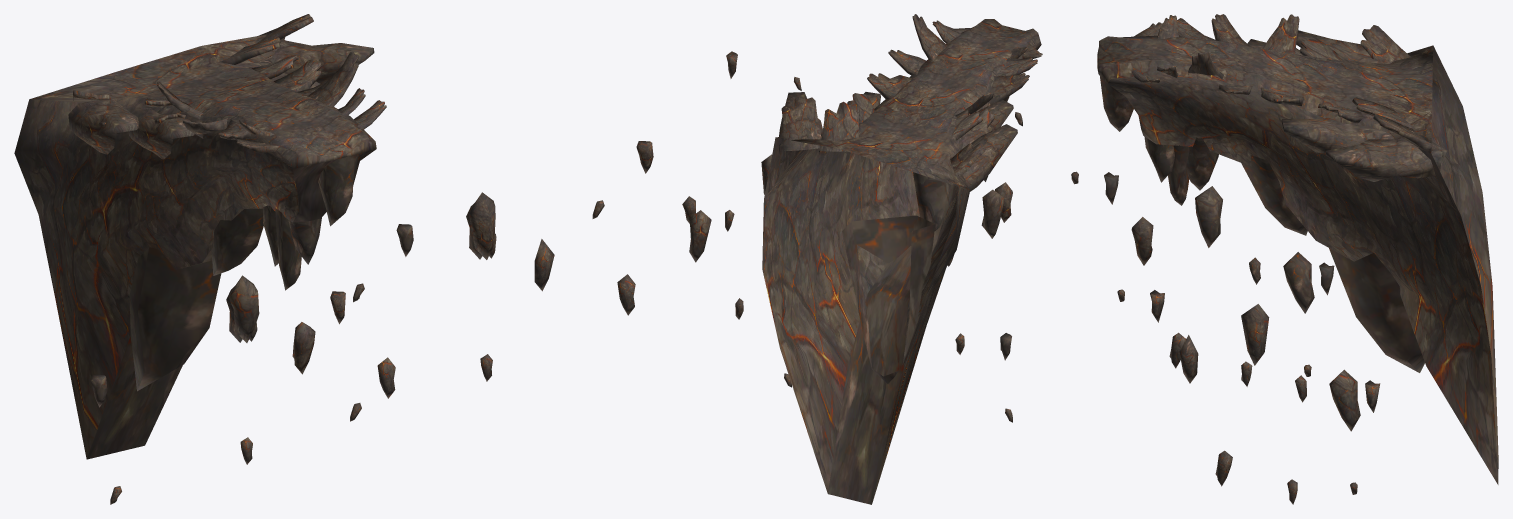
The model's file is S_Rock_Black007.FBX.
The picture shows the model from 3 angles, left to right: view 1: azimuth 30°, elevation 25°; view 2: azimuth 150°, elevation 25°; view 3: azimuth 270°, elevation 25°; orthographic projection. The views are drawn at different scales.
Parts seen in each view (by area): view 1: S_Rock_Black007; view 2: S_Rock_Black007; view 3: S_Rock_Black007.
Part boxes in pixels (x1,y1,x2,y2): S_Rock_Black007: [14, 14, 653, 504]; S_Rock_Black007: [682, 14, 1042, 504]; S_Rock_Black007: [1071, 14, 1498, 504].
Bounding box in the file's own units: 3322 × 2747 × 3226.
